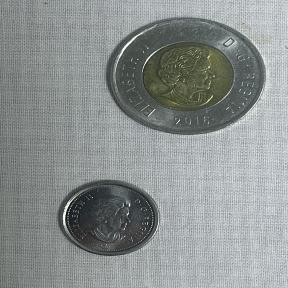coin: (100, 13, 270, 140), (55, 176, 165, 260)
